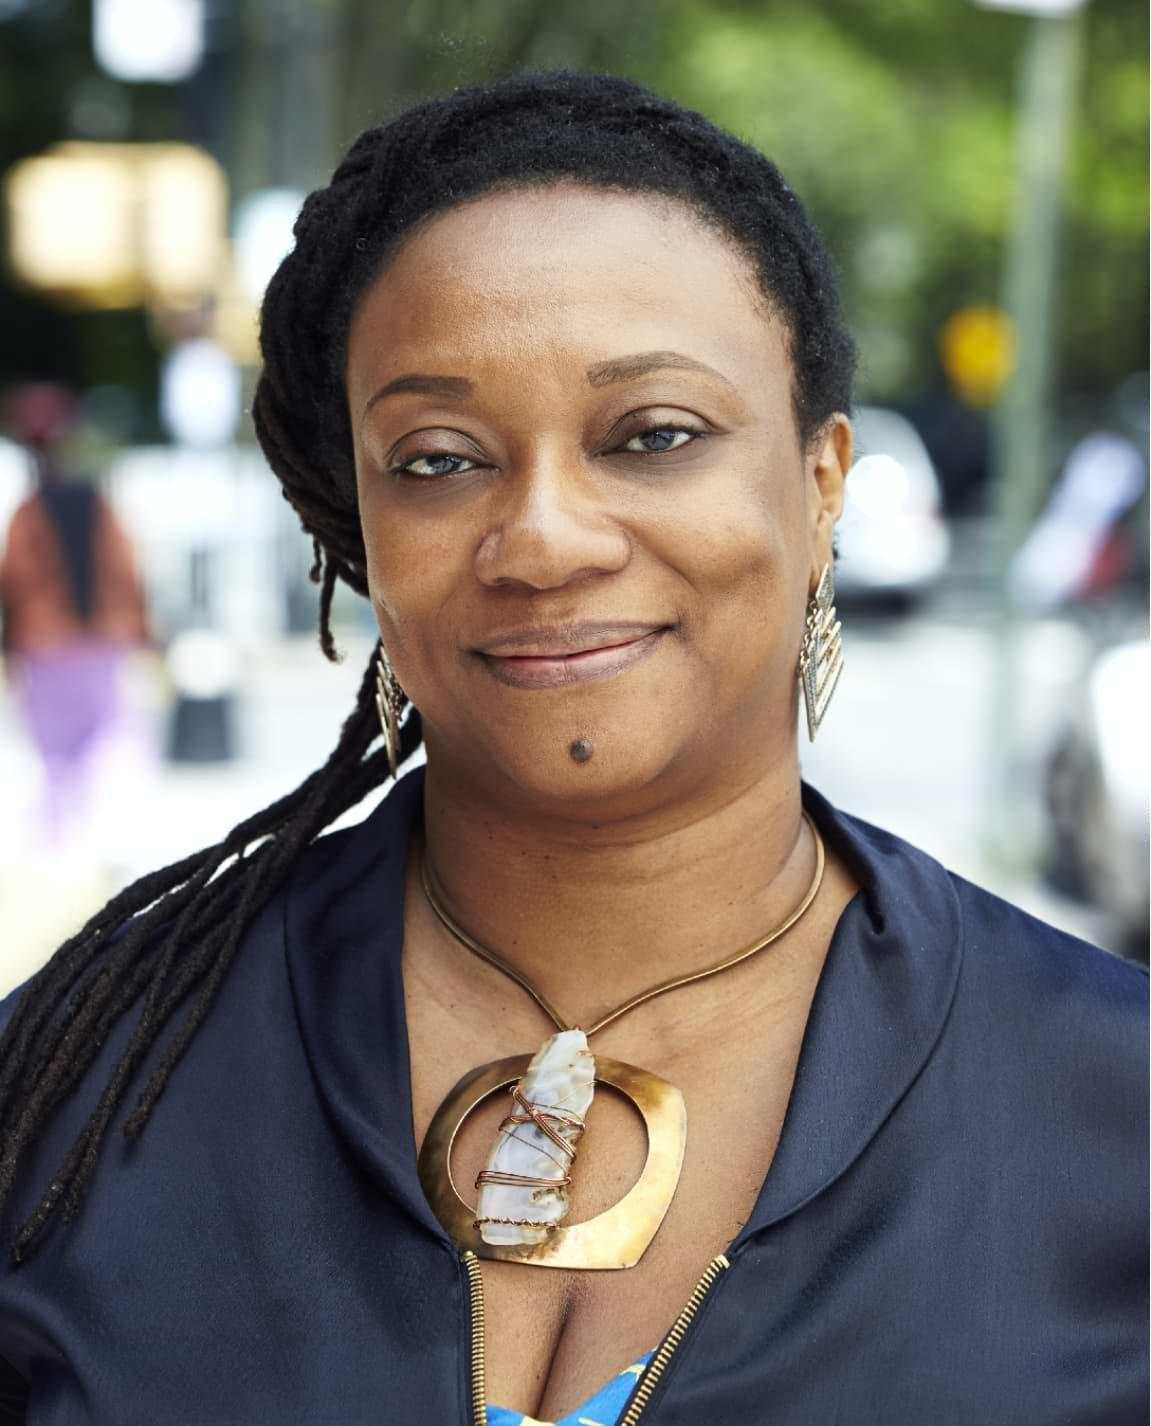Sober: (348, 271, 783, 791)
